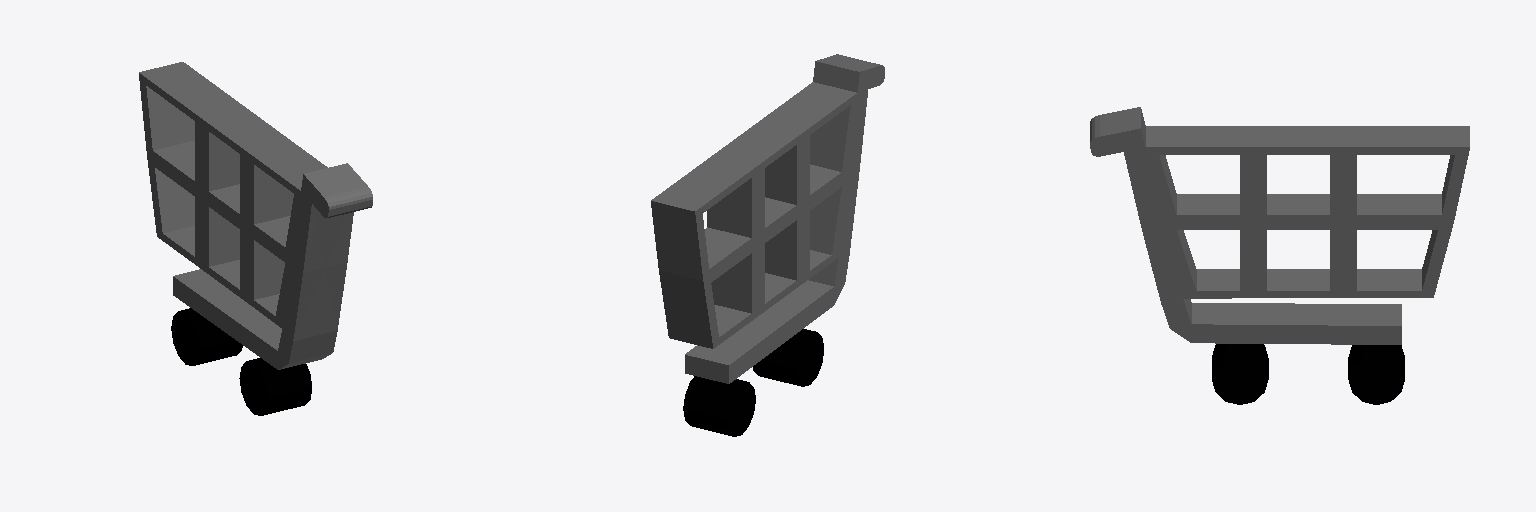
The model's file is icon_shop.obj.
3 renders of one model, left to right at view 1: azimuth 30°, elevation 25°; view 2: azimuth 150°, elevation 25°; view 3: azimuth 270°, elevation 25°, orthographic.
Visible parts, largest first — view 1: Shopping_cart_Cube.009; view 2: Shopping_cart_Cube.009; view 3: Shopping_cart_Cube.009.
Part boxes in pixels (left/top/right/bottom): Shopping_cart_Cube.009: left=139, top=62, right=372, bottom=415; Shopping_cart_Cube.009: left=651, top=54, right=884, bottom=436; Shopping_cart_Cube.009: left=1090, top=107, right=1469, bottom=404.
Size of the model in its own units: 0.617 by 3.67 by 4.57.